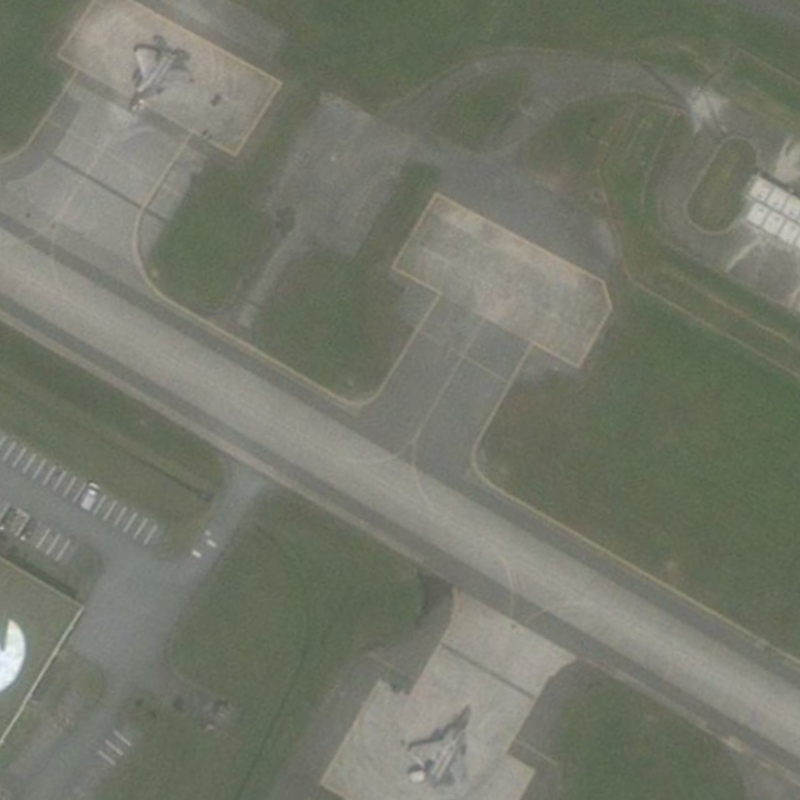A15: (399, 701, 479, 791), (124, 30, 198, 120)
